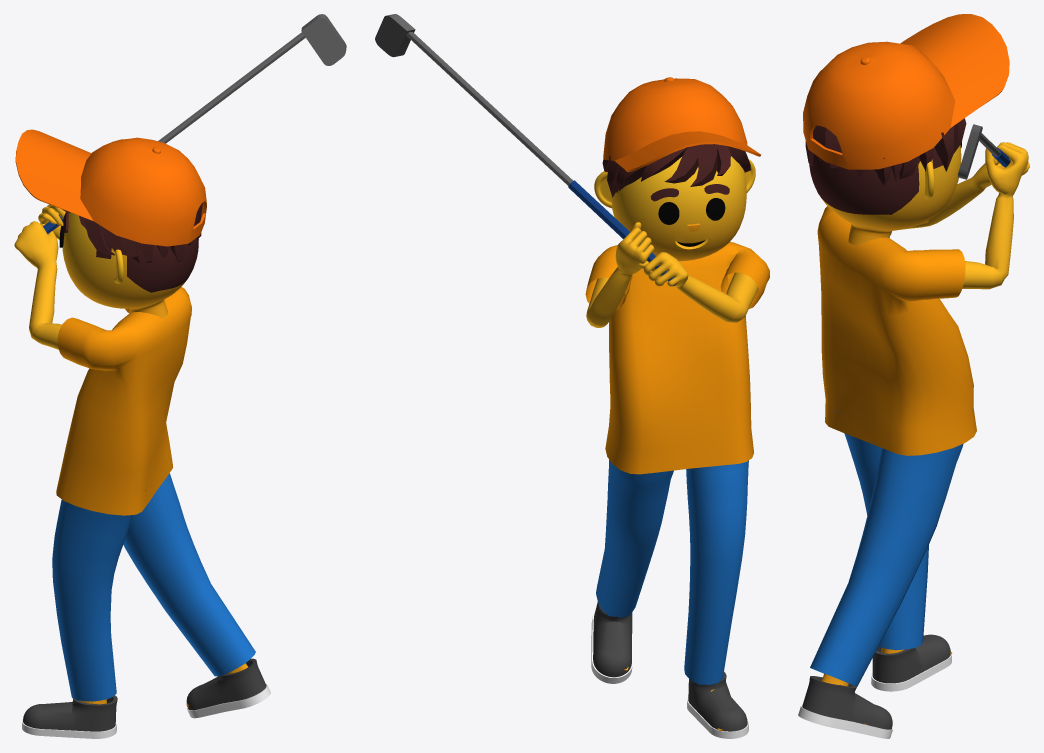
Rendered from person_golfing.fbx.
3 views of the same model, side by side, from view 1: azimuth 30°, elevation 25°; view 2: azimuth 150°, elevation 25°; view 3: azimuth 270°, elevation 25° (orthographic). The views are drawn at different scales.
Parts seen in each view (by area): view 1: Circle.093, Circle.098, Circle.099, Roundcube.453, Sphere.429, Sphere.430, Cube.261, Cube.260; view 2: Circle.093, Circle.098, Circle.099, Roundcube.453, Cube.261, Cube.260, Sphere.430, Sphere.429, Circle.094, Cylinder.379; view 3: Circle.093, Circle.099, Circle.098, Roundcube.453, Sphere.430, Sphere.429, Cube.260, Cube.261.
Part boxes in pixels (x1,y1,x2,y2): Circle.093: [14, 204, 247, 707]; Circle.098: [52, 473, 255, 701]; Circle.099: [15, 129, 206, 246]; Roundcube.453: [62, 212, 198, 318]; Sphere.429: [22, 695, 117, 738]; Sphere.430: [186, 658, 270, 718]; Cube.261: [43, 14, 346, 233]; Cube.260: [61, 203, 202, 262]; Circle.093: [585, 222, 769, 730]; Circle.098: [596, 459, 748, 684]; Circle.099: [603, 77, 760, 171]; Roundcube.453: [611, 156, 746, 261]; Cube.261: [375, 14, 677, 286]; Cube.260: [602, 144, 750, 197]; Sphere.430: [591, 602, 632, 683]; Sphere.429: [687, 672, 748, 738]; Circle.094: [658, 198, 725, 224]; Cylinder.379: [594, 159, 755, 208]; Circle.093: [817, 142, 1029, 724]; Circle.099: [803, 14, 1009, 169]; Circle.098: [810, 410, 963, 686]; Roundcube.453: [809, 145, 961, 246]; Sphere.430: [798, 676, 892, 738]; Sphere.429: [871, 634, 951, 691]; Cube.260: [805, 118, 966, 185]; Cube.261: [957, 124, 1010, 179].
Size of the model in its own units: 139 by 242 by 72.45.
2 materials, 2 textured.
